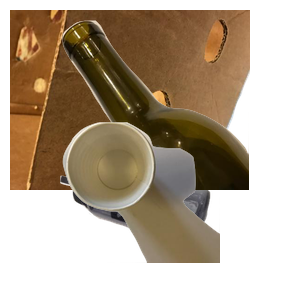cardboard: (10, 10, 250, 190)
glass: (60, 18, 300, 198)
plastic: (58, 162, 261, 300)
trash: (60, 120, 300, 300)
